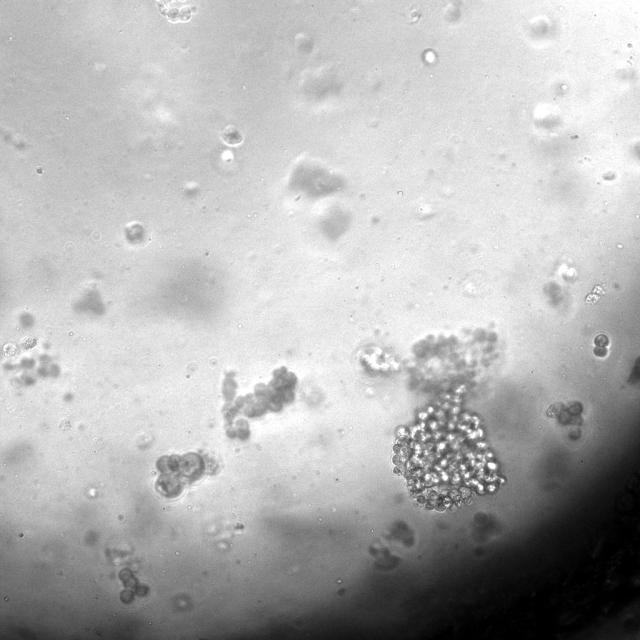organoid: (392, 325, 505, 510), (221, 366, 297, 439), (154, 451, 219, 498), (2, 339, 61, 386), (471, 511, 502, 555), (357, 344, 399, 375), (118, 567, 148, 602), (369, 539, 399, 570), (158, 1, 197, 24), (546, 401, 583, 425), (384, 520, 415, 547), (0, 336, 37, 358), (220, 125, 243, 147), (124, 221, 145, 244), (586, 284, 606, 304), (593, 334, 608, 358), (627, 356, 639, 385), (421, 48, 438, 66), (19, 311, 34, 328), (568, 427, 581, 441)
